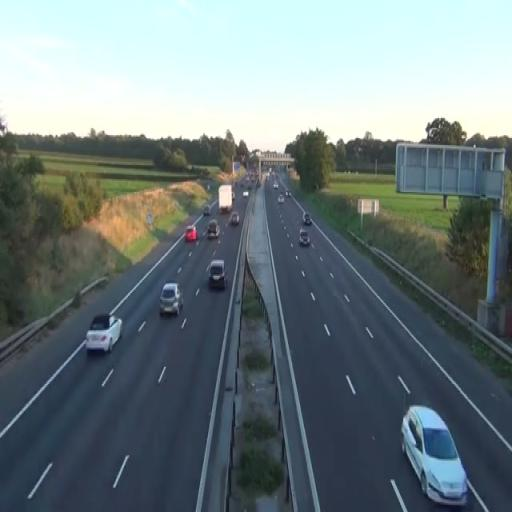Car: (400, 404, 468, 506), (85, 313, 122, 354), (159, 282, 183, 316), (208, 260, 226, 290), (184, 225, 198, 243), (208, 219, 220, 239), (300, 227, 310, 247), (229, 211, 240, 227)
Truck: (218, 185, 233, 212)
